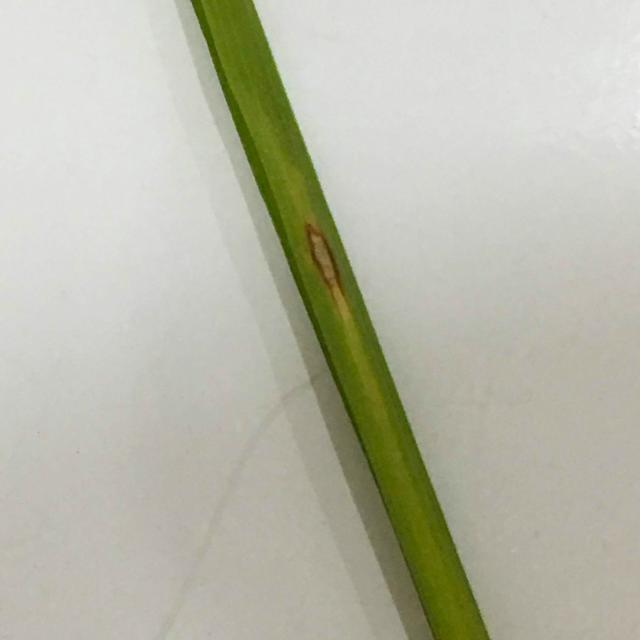Blast: (299, 236, 347, 297)
